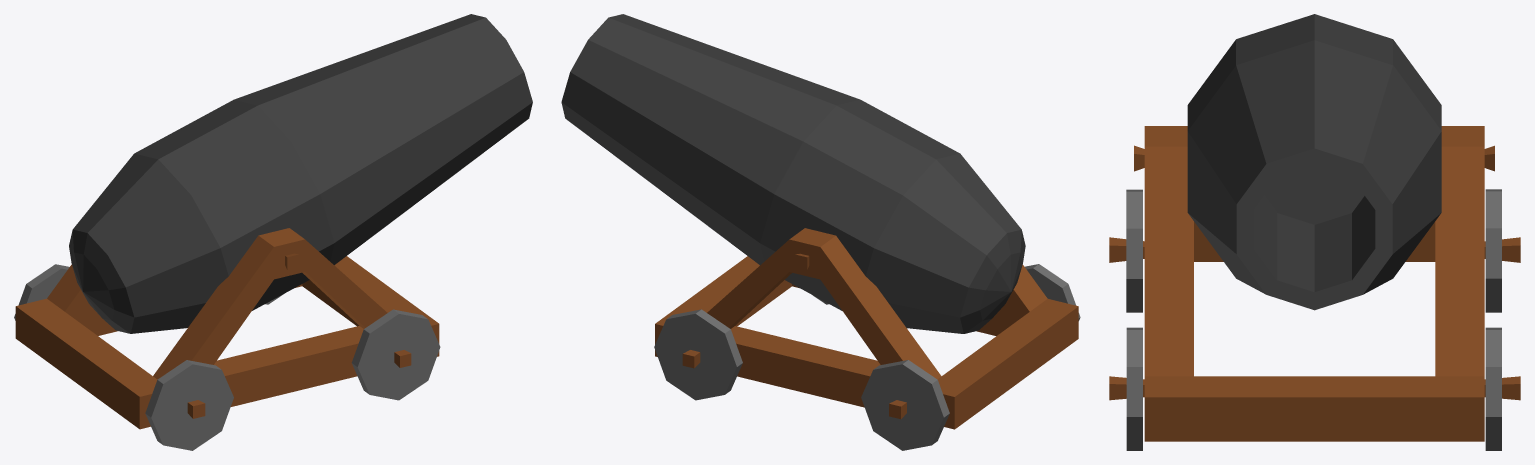
The model's file is Canon.fbx.
3 views of the same model, side by side, from view 1: azimuth 30°, elevation 25°; view 2: azimuth 150°, elevation 25°; view 3: azimuth 270°, elevation 25° (orthographic). The views are drawn at different scales.
Visible parts, largest first — view 1: Barrel, Stand, Wheel_2, Wheel_3, Wheel_1; view 2: Barrel, Stand, Wheel, Wheel_1, Wheel_3; view 3: Barrel, Stand, Wheel_3, Wheel_1, Wheel_2, Wheel.
Boxes of the visible parts, x1,y1,x2,y2 form: Barrel: (69, 14, 532, 333); Stand: (15, 228, 439, 429); Wheel_2: (351, 309, 440, 400); Wheel_3: (145, 360, 233, 450); Wheel_1: (14, 264, 69, 320); Barrel: (561, 14, 1025, 333); Stand: (655, 228, 1078, 429); Wheel: (654, 309, 742, 400); Wheel_1: (861, 360, 949, 450); Wheel_3: (1025, 264, 1080, 320); Barrel: (1187, 14, 1441, 310); Stand: (1109, 126, 1520, 441); Wheel_3: (1126, 189, 1142, 312); Wheel_1: (1485, 189, 1501, 312); Wheel_2: (1126, 327, 1142, 450); Wheel: (1485, 327, 1501, 450).
Size of the model in its own units: 211 by 136 by 125.
